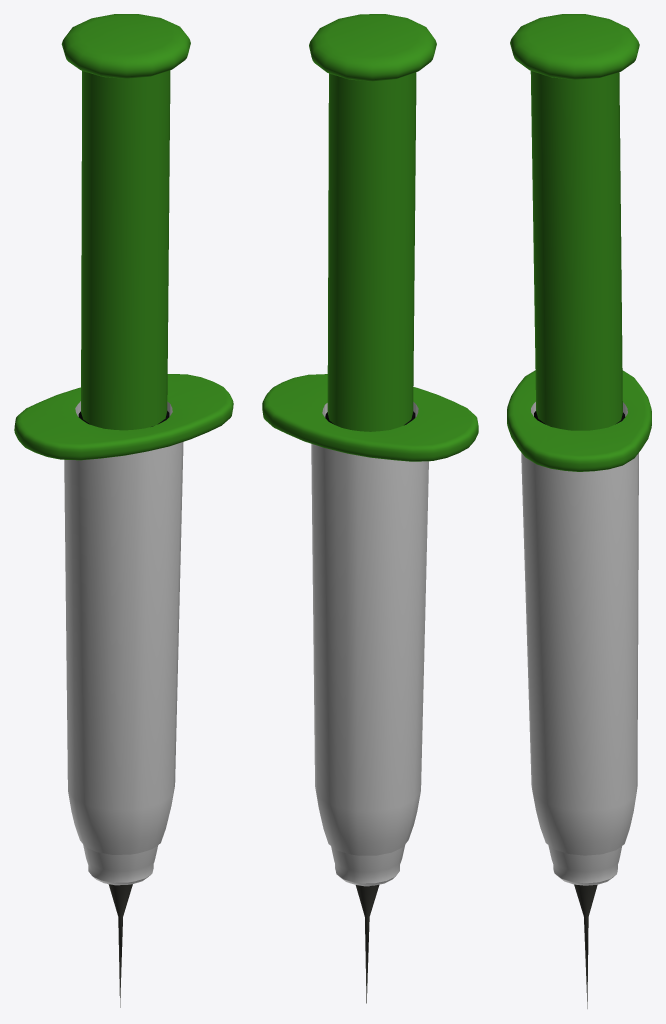
The model's file is Jeringuilla.fbx.
The picture shows the model from 3 angles, left to right: view 1: azimuth 30°, elevation 25°; view 2: azimuth 150°, elevation 25°; view 3: azimuth 270°, elevation 25°; orthographic projection.
Visible parts, largest first — view 1: ExteriorJeringuilla, EmboloJeringuilla; view 2: ExteriorJeringuilla, EmboloJeringuilla; view 3: ExteriorJeringuilla, EmboloJeringuilla.
Boxes of the visible parts, bbox=[...] form: ExteriorJeringuilla: bbox=[14, 374, 233, 1007]; EmboloJeringuilla: bbox=[61, 14, 190, 430]; ExteriorJeringuilla: bbox=[262, 374, 478, 1003]; EmboloJeringuilla: bbox=[309, 14, 436, 431]; ExteriorJeringuilla: bbox=[507, 370, 651, 1008]; EmboloJeringuilla: bbox=[510, 14, 639, 430].
Bounding box in the file's own units: 0.6078 × 2.83 × 0.3817.
